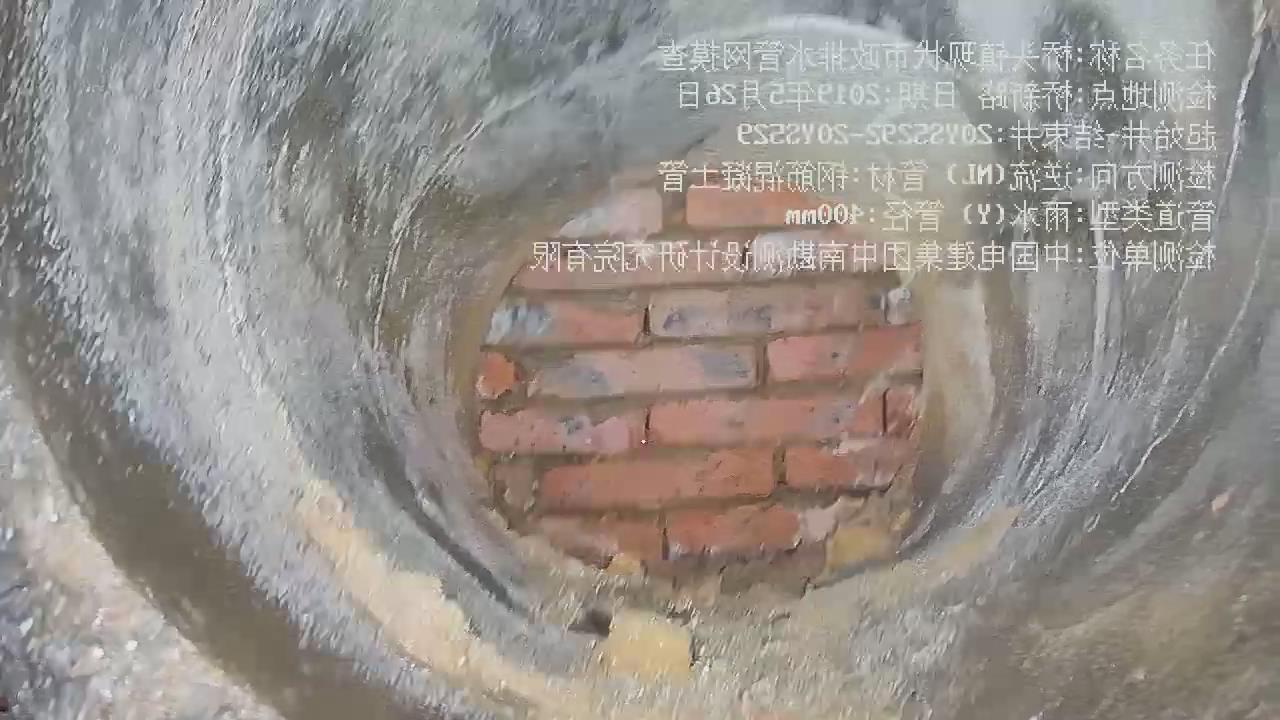CQBG: (472, 167, 924, 575)
